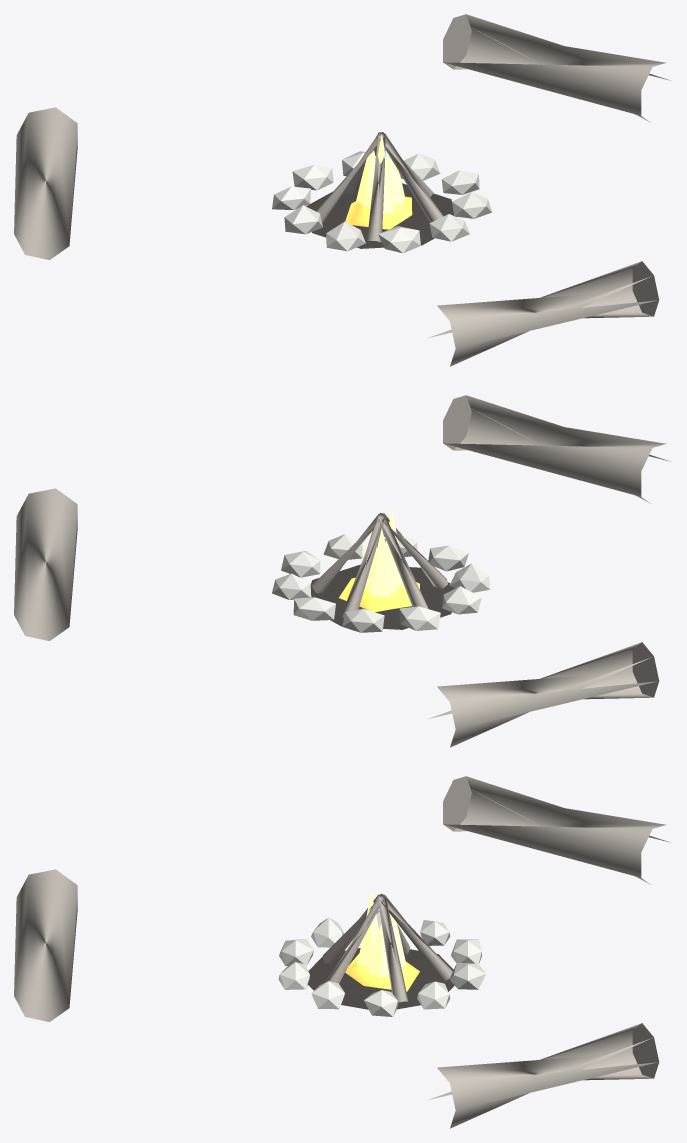
Rendered from campfire.gltf.
3 views of the same model, one above another, from view 1: azimuth 30°, elevation 25°; view 2: azimuth 150°, elevation 25°; view 3: azimuth 270°, elevation 25° (orthographic).
Visible parts, largest first — view 1: campfire_Bark_Dark, campfire_Stone_Rock, campfire_Ash, campfire_Flame_Glow, campfire_Embers_Glow; view 2: campfire_Bark_Dark, campfire_Stone_Rock, campfire_Ash, campfire_Flame_Glow, campfire_Embers_Glow; view 3: campfire_Bark_Dark, campfire_Stone_Rock, campfire_Ash, campfire_Flame_Glow, campfire_Embers_Glow.
Part boxes in pixels (<box>): campfire_Bark_Dark: <box>14,14,670,366</box>; campfire_Stone_Rock: <box>272,151,492,253</box>; campfire_Ash: <box>306,183,456,248</box>; campfire_Flame_Glow: <box>356,134,405,213</box>; campfire_Embers_Glow: <box>345,196,412,229</box>; campfire_Bark_Dark: <box>14,395,670,747</box>; campfire_Stone_Rock: <box>272,532,489,632</box>; campfire_Ash: <box>310,564,455,629</box>; campfire_Flame_Glow: <box>362,507,402,597</box>; campfire_Embers_Glow: <box>339,577,419,612</box>; campfire_Bark_Dark: <box>14,776,670,1128</box>; campfire_Stone_Rock: <box>278,910,485,1016</box>; campfire_Ash: <box>308,948,454,1009</box>; campfire_Flame_Glow: <box>357,889,406,977</box>; campfire_Embers_Glow: <box>345,953,419,991</box>.
Size of the model in its own units: 5.15 by 0.6814 by 4.51.
